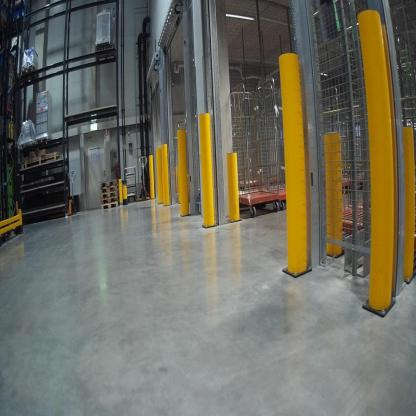pallet: (20, 151, 60, 175), (19, 68, 43, 83), (99, 176, 118, 188), (99, 203, 118, 215), (19, 141, 35, 155), (99, 190, 118, 201), (34, 136, 52, 145), (21, 64, 35, 73), (99, 197, 119, 203), (99, 186, 118, 190)
pallet_truck: (134, 151, 151, 203), (61, 165, 78, 216)
